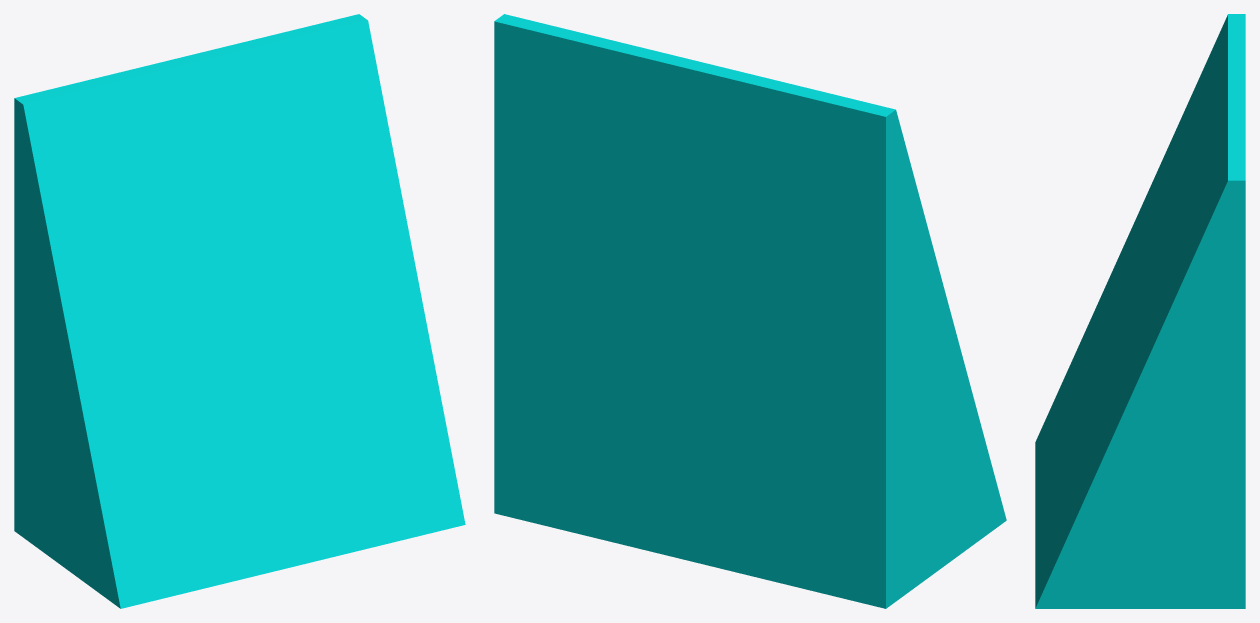
The model's file is SM_Bld_Wall_Slope_01_Collision.fbx.
3 views of the same model, side by side, from view 1: azimuth 30°, elevation 25°; view 2: azimuth 150°, elevation 25°; view 3: azimuth 270°, elevation 25° (orthographic). The views are drawn at different scales.
Parts seen in each view (by area): view 1: SM_Bld_Wall_Slope_01_Collision; view 2: SM_Bld_Wall_Slope_01_Collision; view 3: SM_Bld_Wall_Slope_01_Collision.
Boxes of the visible parts, x1,y1,x2,y2 form: SM_Bld_Wall_Slope_01_Collision: (14, 14, 465, 608); SM_Bld_Wall_Slope_01_Collision: (494, 14, 1006, 608); SM_Bld_Wall_Slope_01_Collision: (1035, 14, 1245, 608).
Size of the model in its own units: 500 by 600 by 267.
